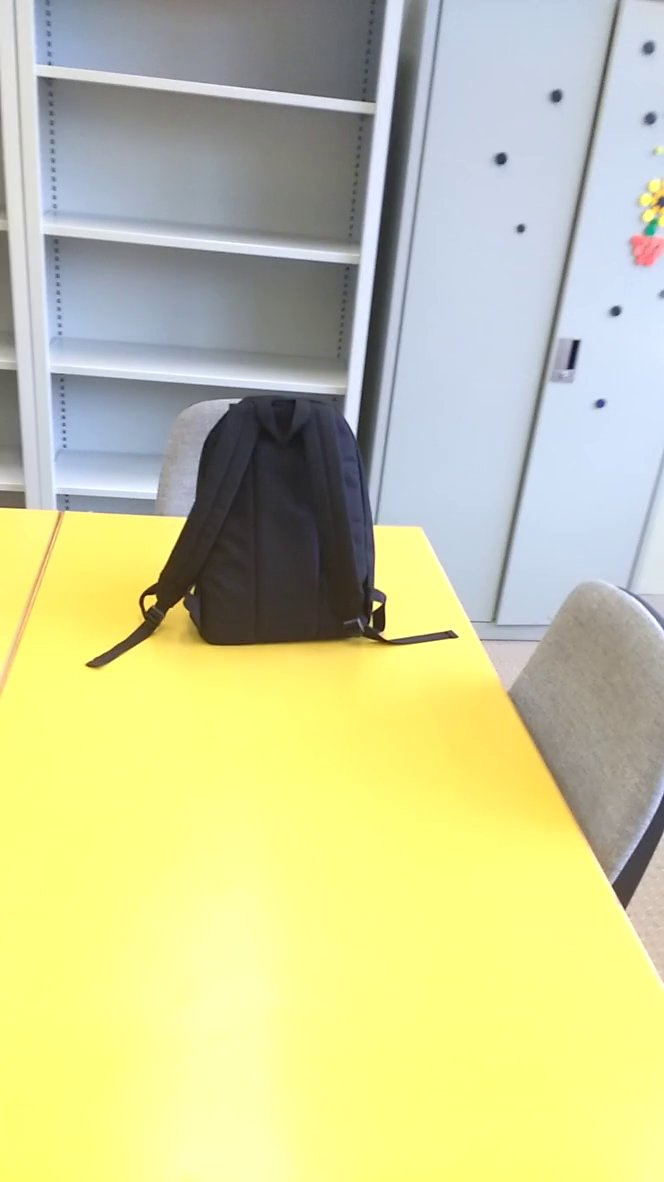bag: (85, 385, 466, 678)
chair: (497, 552, 664, 959)
